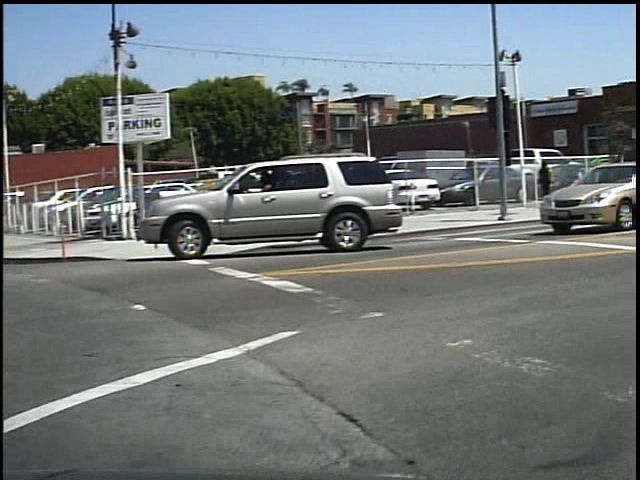person: (539, 159, 563, 215)
